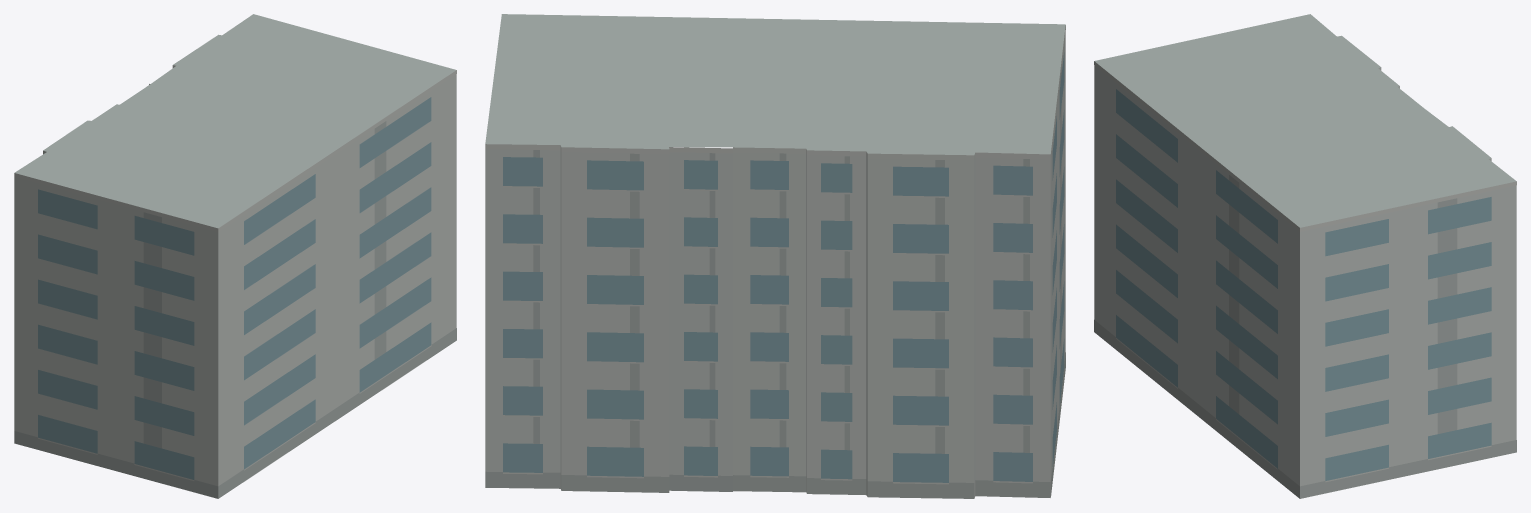
Rendered from survey-upis-32837177.glb.
The picture shows the model from 3 angles, left to right: view 1: azimuth 30°, elevation 25°; view 2: azimuth 150°, elevation 25°; view 3: azimuth 270°, elevation 25°; orthographic projection. The views are drawn at different scales.
Parts seen in each view (by area): view 1: survey-upis-32837177.tmp; view 2: survey-upis-32837177.tmp; view 3: survey-upis-32837177.tmp.
Boxes of the visible parts, x1,y1,x2,y2 form: survey-upis-32837177.tmp: (14,14,456,498); survey-upis-32837177.tmp: (485,14,1065,498); survey-upis-32837177.tmp: (1094,14,1516,498).
Bounding box in the file's own units: 27.25 × 16.1 × 22.76.
